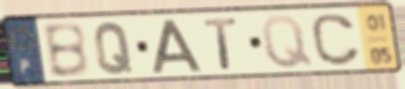A: (150, 18, 204, 75)
B: (39, 20, 93, 80)
C: (309, 12, 364, 68)
Q: (258, 12, 316, 71), (91, 20, 135, 76)
T: (201, 16, 241, 71)
